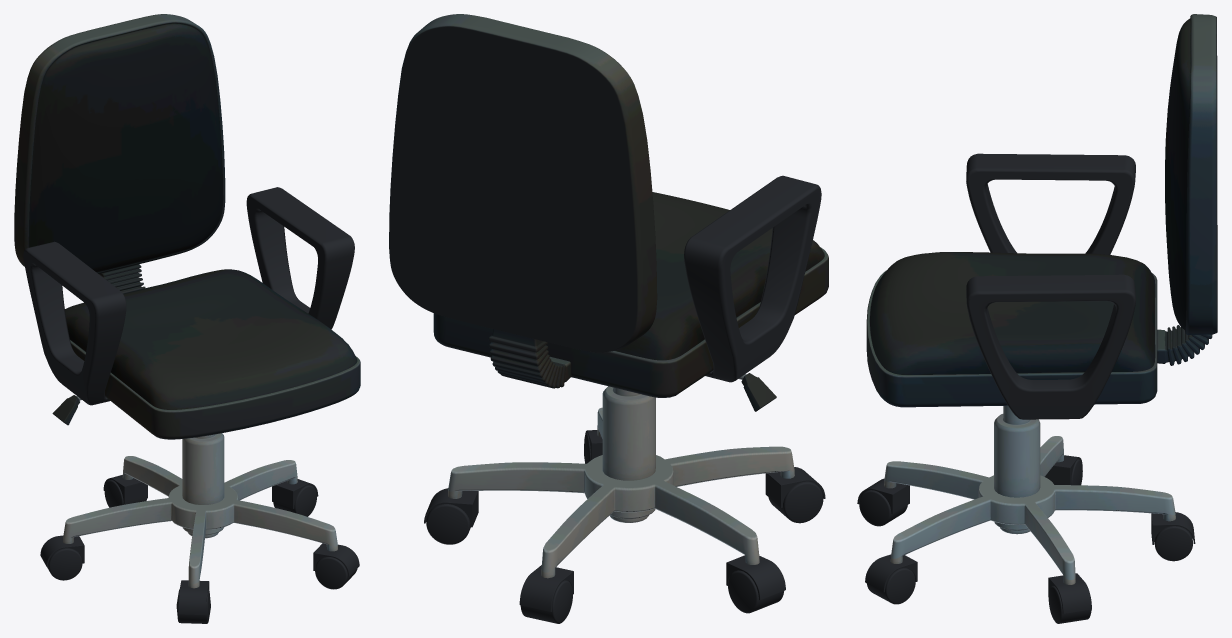
Rendered from officechair.fbx.
3 renders of one model, left to right at view 1: azimuth 30°, elevation 25°; view 2: azimuth 150°, elevation 25°; view 3: azimuth 270°, elevation 25°, orthographic. The views are drawn at different scales.
Visible parts, largest first — view 1: node_id30; view 2: node_id30; view 3: node_id30.
Boxes of the visible parts, x1=… form: node_id30: x1=14, y1=14, x2=360, y2=623; node_id30: x1=389, y1=14, x2=828, y2=623; node_id30: x1=857, y1=14, x2=1217, y2=623.
Size of the model in its own units: 0.314 by 0.512 by 0.3235.
Materials: 1 (1 with a texture image).
